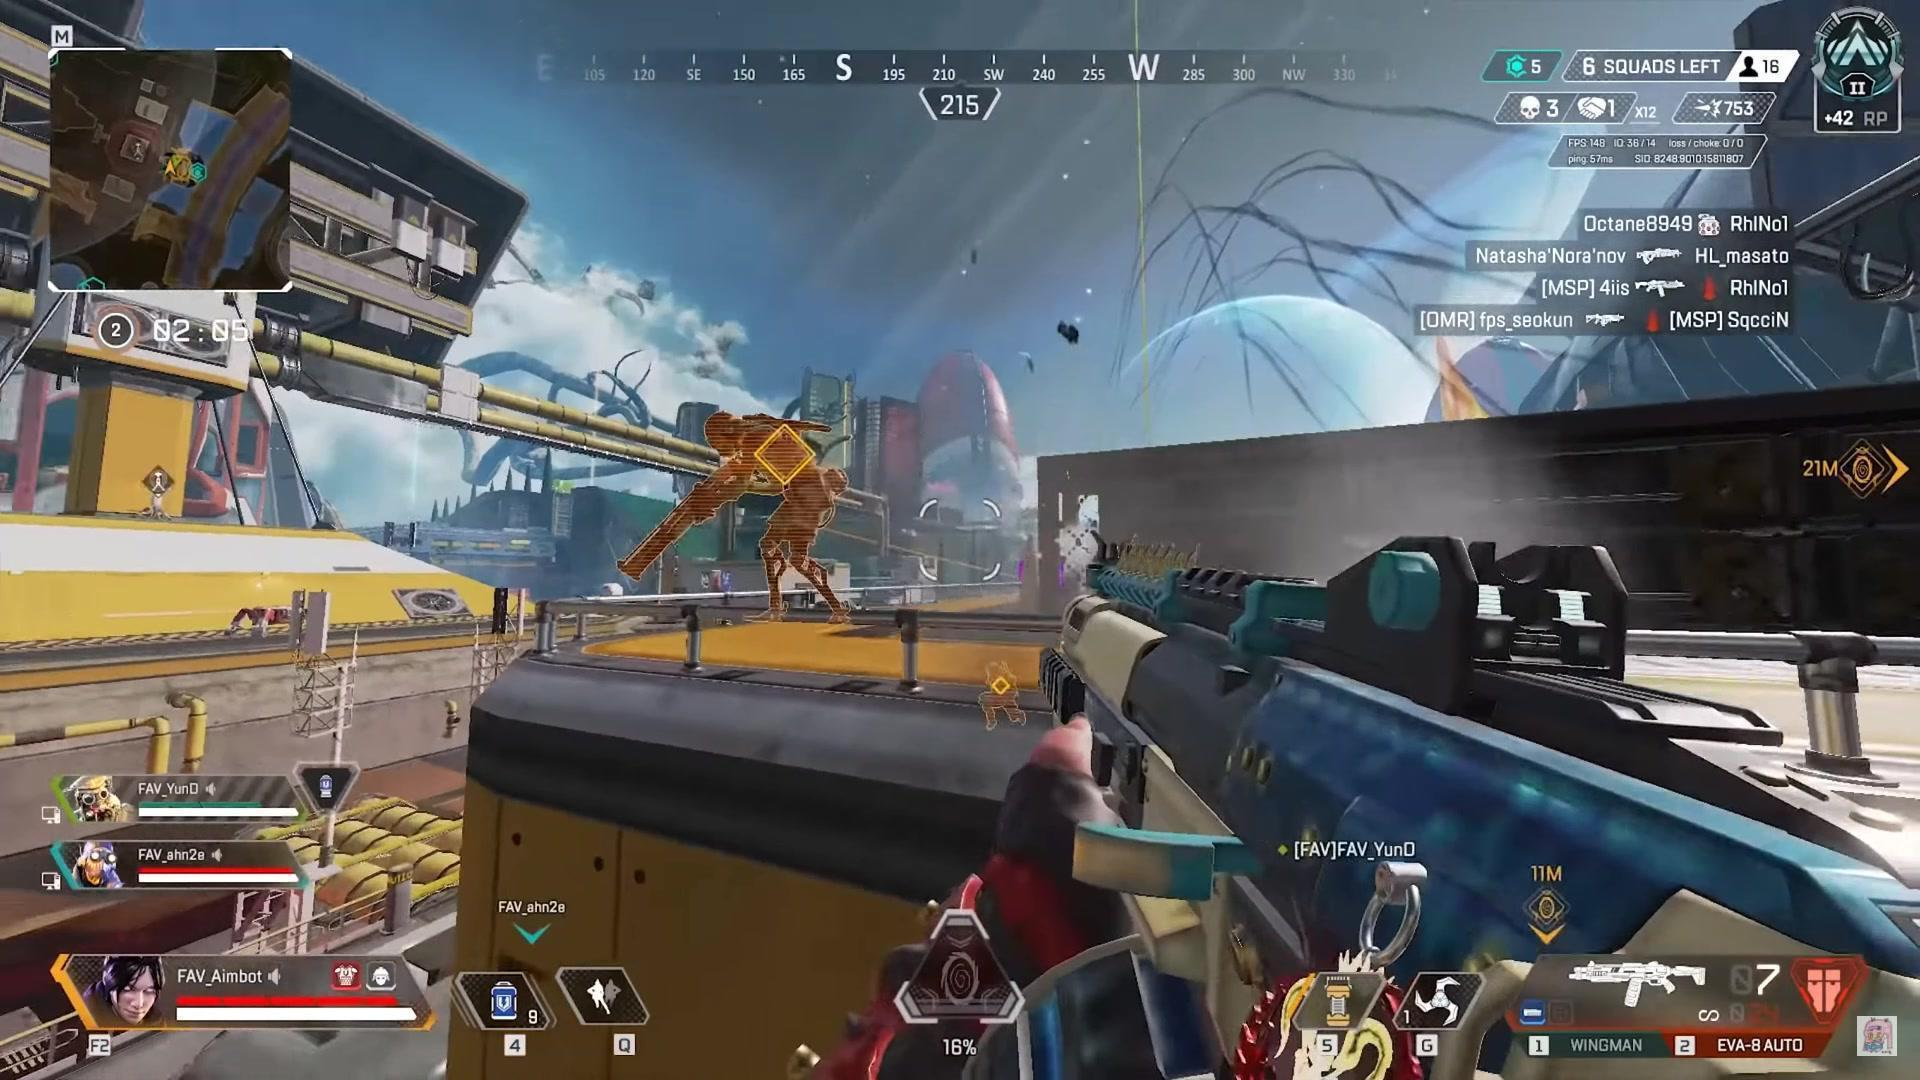avatar: (702, 409, 859, 627)
object: (750, 421, 820, 490), (991, 676, 1011, 697)
